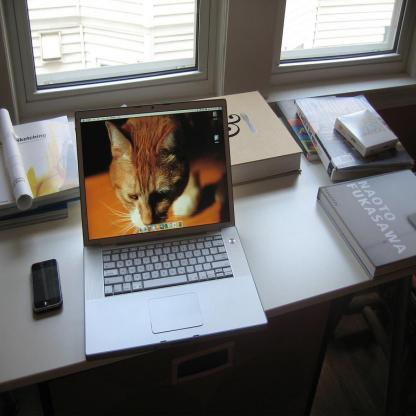board: (76, 97, 266, 353)
